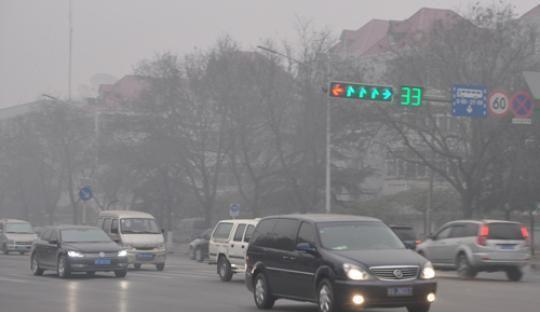car: (243, 214, 437, 310), (416, 220, 532, 280), (30, 224, 129, 278), (208, 218, 284, 281), (93, 210, 166, 271), (188, 227, 236, 262), (1, 219, 40, 256)
